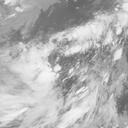cyclone: (40, 44, 107, 99)
